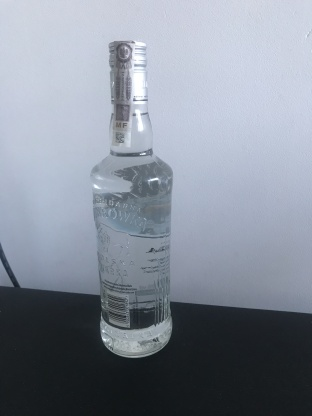nakretka: (105, 36, 151, 107)
